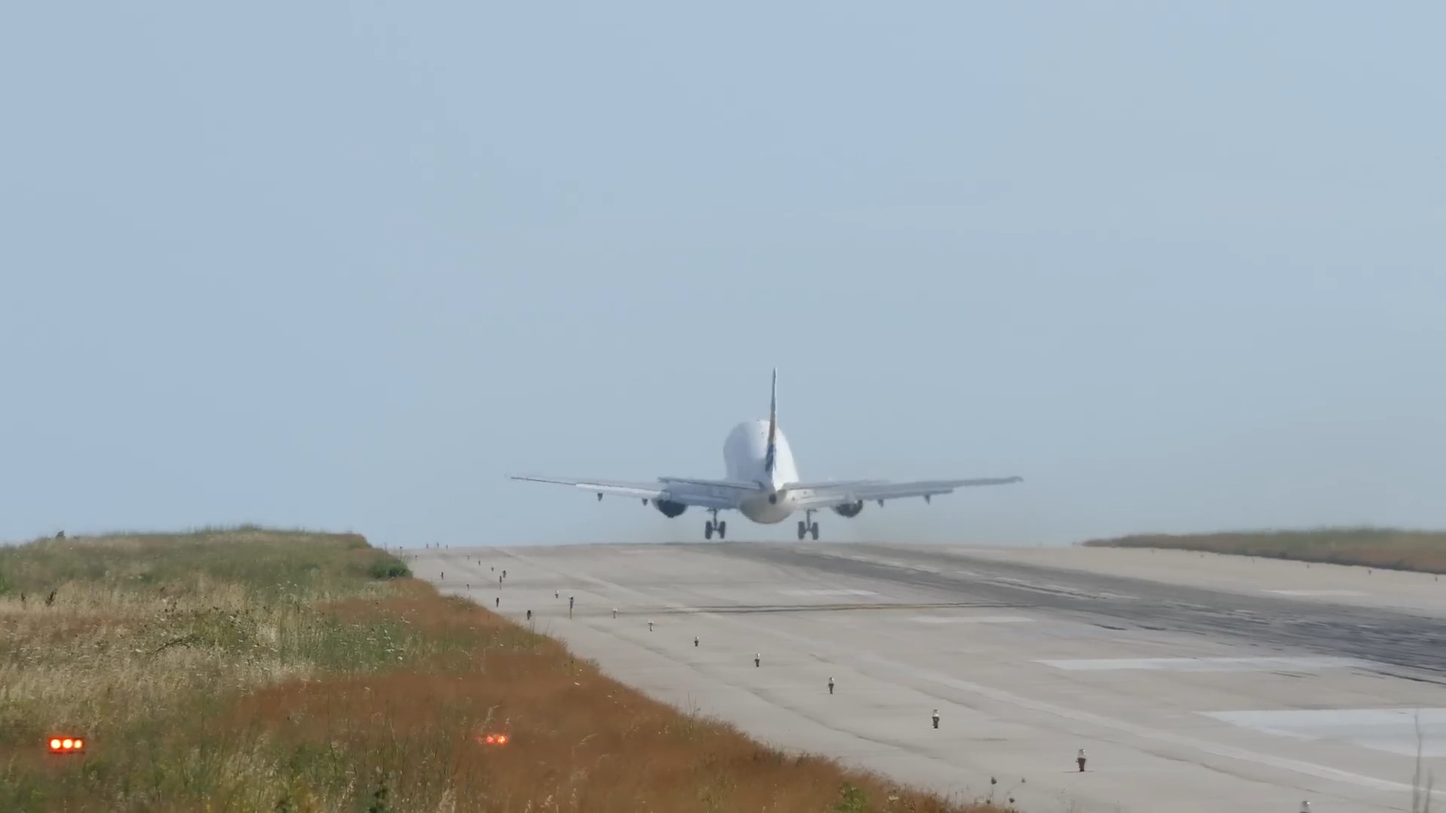airplane: (507, 360, 1030, 549)
